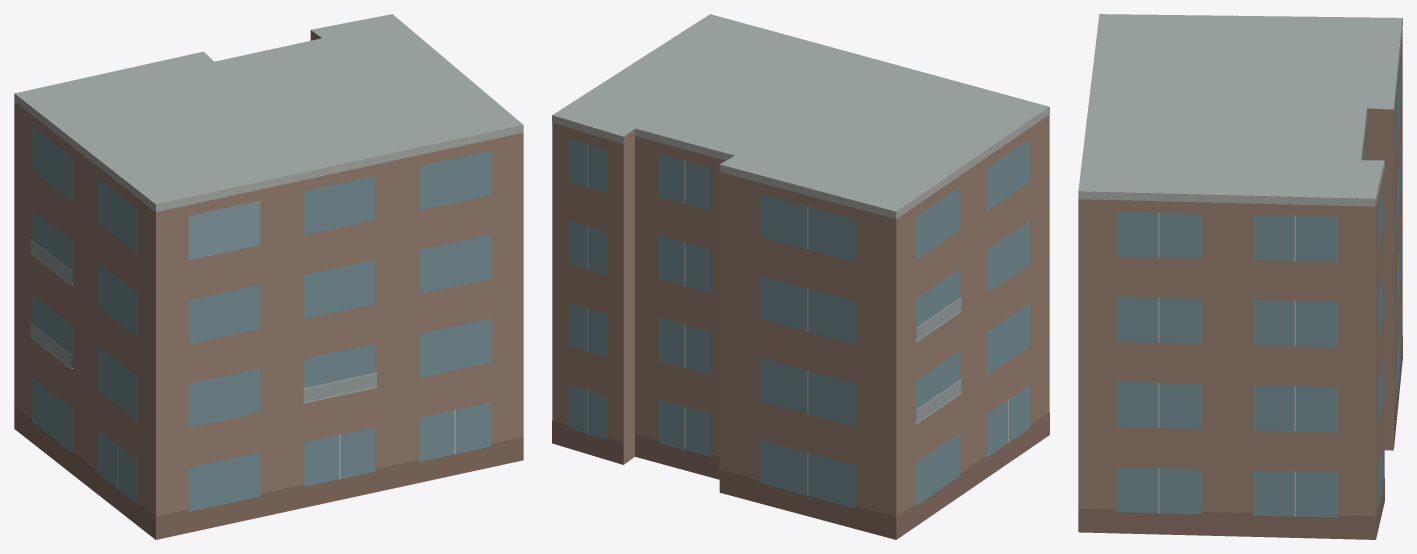
Rendered from survey-upis-32565192.glb.
The picture shows the model from 3 angles, left to right: view 1: azimuth 30°, elevation 25°; view 2: azimuth 150°, elevation 25°; view 3: azimuth 270°, elevation 25°; orthographic projection. The views are drawn at different scales.
Visible parts, largest first — view 1: survey-upis-32565192.tmp; view 2: survey-upis-32565192.tmp; view 3: survey-upis-32565192.tmp.
Boxes of the visible parts, x1,y1,x2,y2 form: survey-upis-32565192.tmp: (14, 14, 523, 539); survey-upis-32565192.tmp: (552, 14, 1049, 539); survey-upis-32565192.tmp: (1078, 14, 1402, 539).
Bounding box in the file's own units: 12.39 × 10.65 × 9.19.
